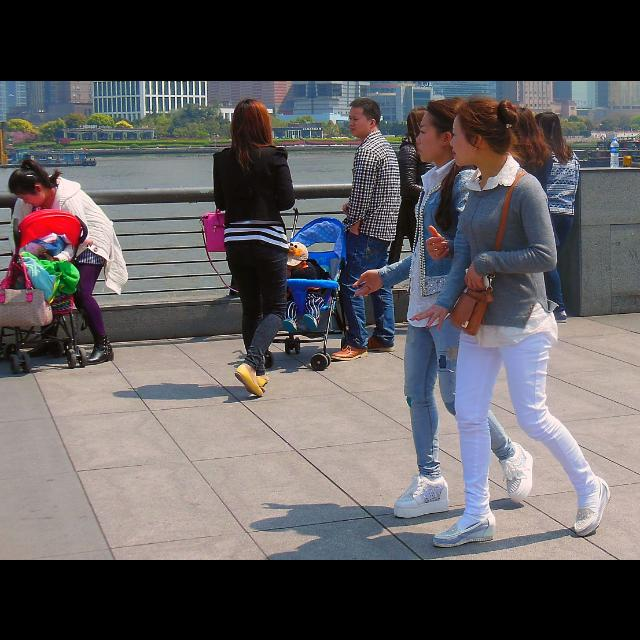head: (450, 100, 510, 168), (415, 95, 473, 163), (232, 98, 270, 142), (8, 166, 46, 208), (348, 97, 382, 137), (507, 106, 538, 146), (534, 110, 560, 146), (408, 107, 434, 137), (282, 242, 308, 272)
person: (420, 90, 616, 554), (350, 94, 540, 524), (194, 95, 300, 402), (1, 152, 129, 370), (327, 95, 405, 362), (516, 108, 584, 326), (491, 96, 554, 324), (384, 101, 444, 299), (268, 234, 334, 340)
